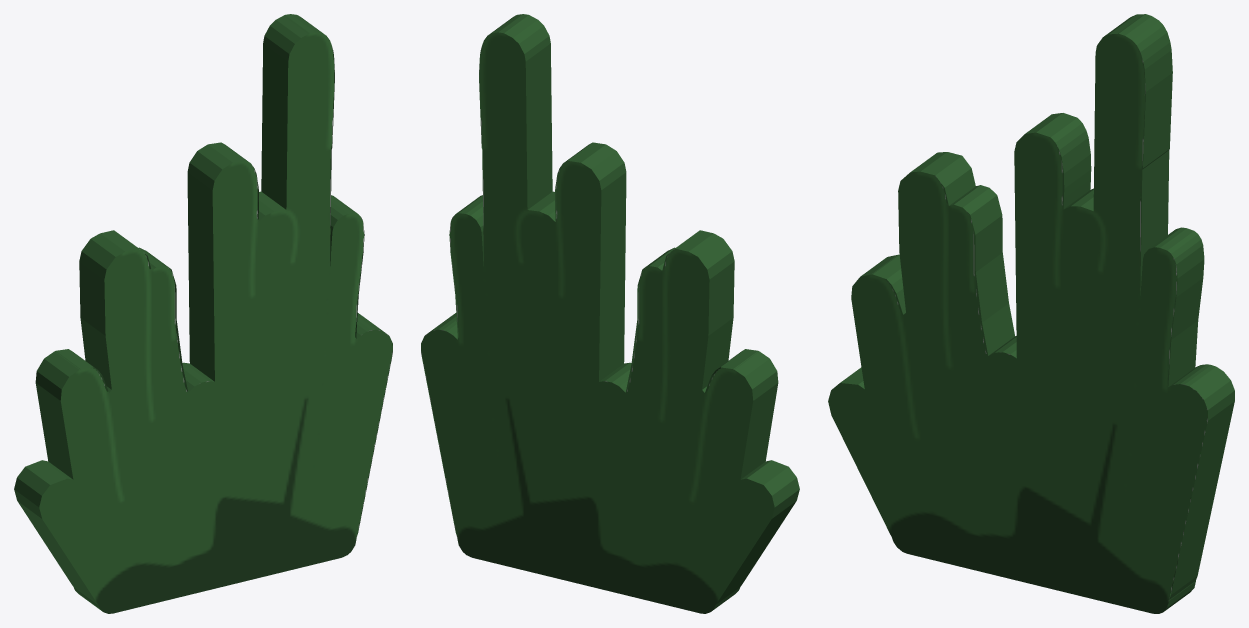
File: GrassTuft01.fbx
3 renders of one model, left to right at view 1: azimuth 30°, elevation 25°; view 2: azimuth 150°, elevation 25°; view 3: azimuth 330°, elevation 25°, orthographic. The views are drawn at different scales.
Visible parts, largest first — view 1: Grass01; view 2: Grass01; view 3: Grass01.
Part boxes in pixels (left/top/right/bottom): Grass01: left=14, top=14, right=392, bottom=613; Grass01: left=421, top=14, right=799, bottom=613; Grass01: left=828, top=14, right=1234, bottom=613.
Bounding box in the file's own units: 0.3861 × 0.5553 × 0.0475.
